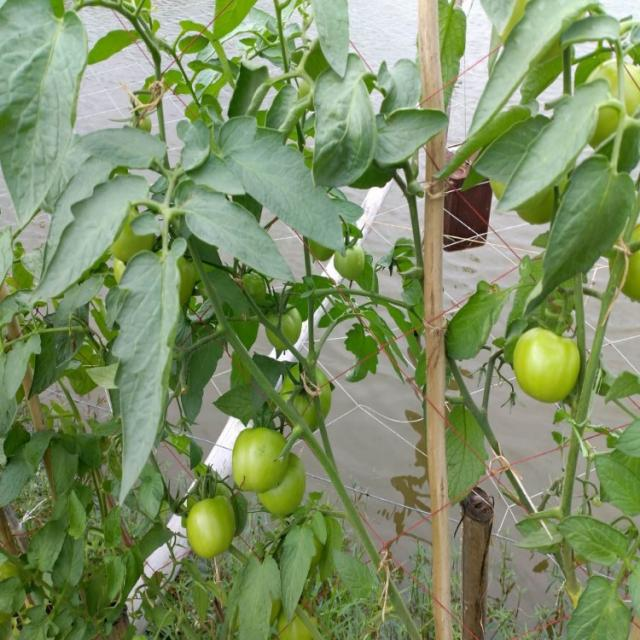tomato: (511, 323, 587, 409), (581, 60, 640, 153), (232, 428, 292, 496), (278, 367, 328, 429), (190, 500, 237, 563), (266, 453, 306, 515), (512, 184, 558, 227), (112, 207, 152, 255), (263, 303, 302, 347), (335, 244, 369, 282), (280, 607, 316, 640), (174, 254, 198, 301), (307, 240, 329, 260), (110, 260, 127, 284)
